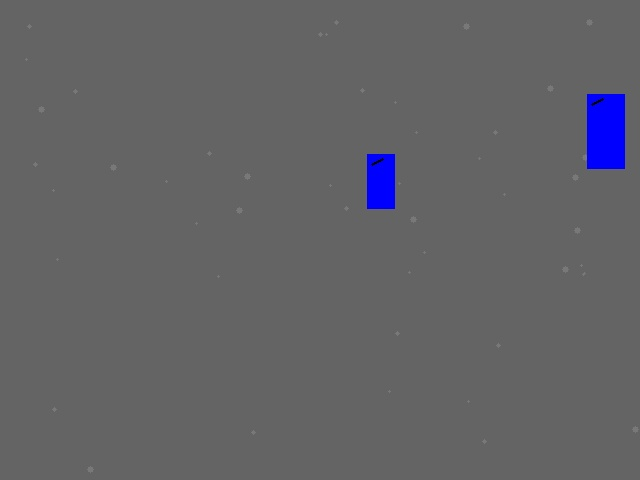motorcycle: (587, 94, 624, 168), (367, 154, 394, 208)
